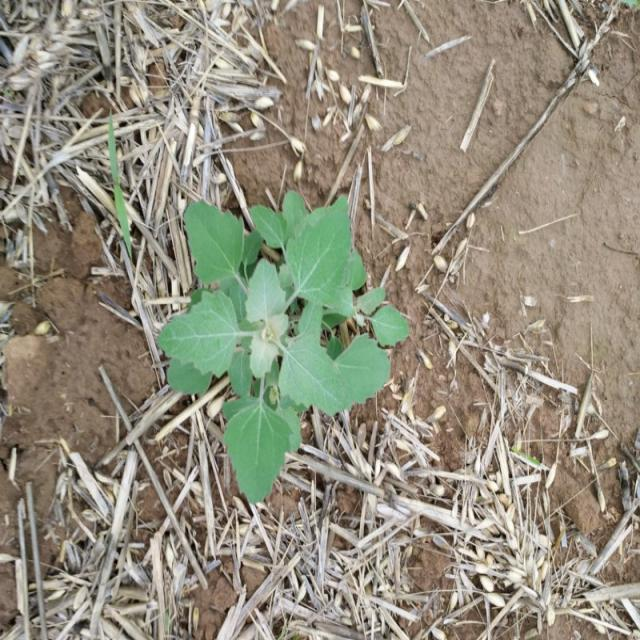goosefoots: (158, 185, 405, 490)
